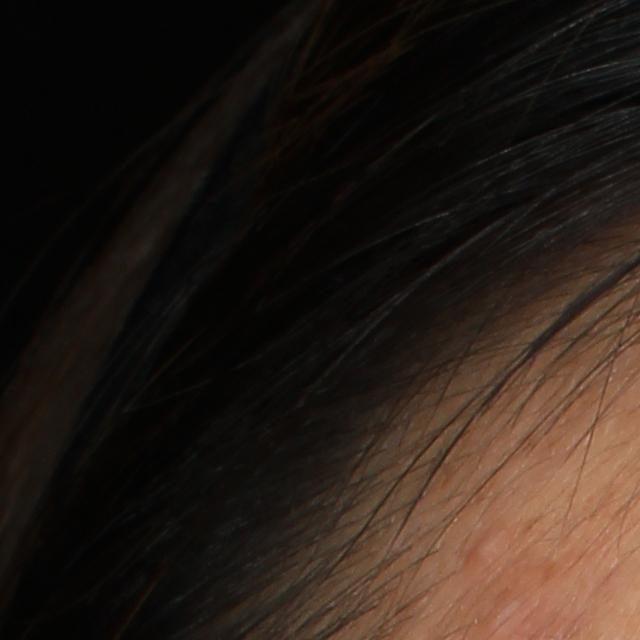papule: (470, 535, 501, 569)
